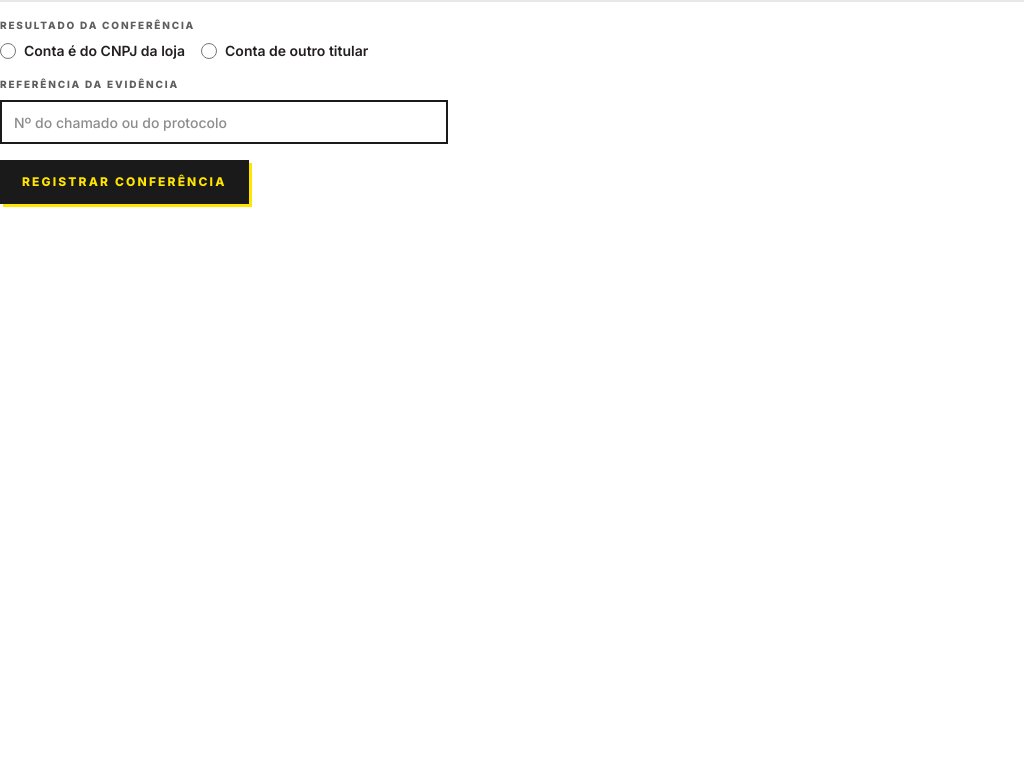
it: VendorMercadoPagoIdentityForm › confirma antes de enviar e registra com a evidência
Click the radio button labelled "Conta de outro titular". click: [209, 51]
box: [201,43,217,59]
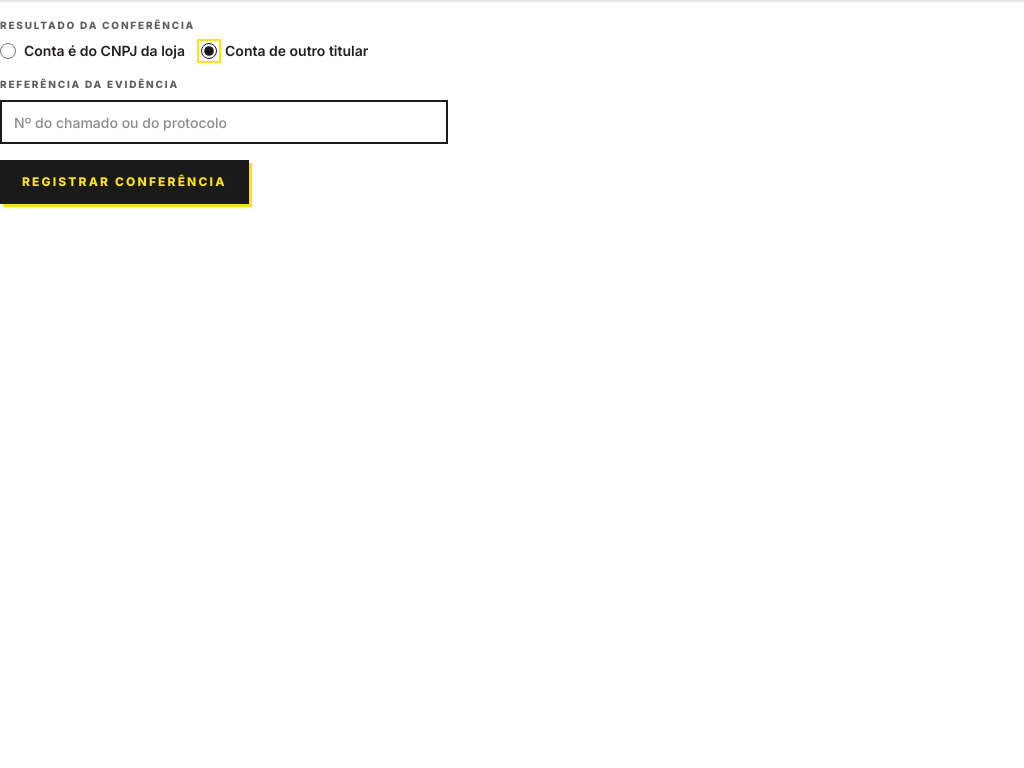
Type "  CH-1234 " into the field labelled "Referência da evidência". click: [224, 122]
box: [0,100,448,144]
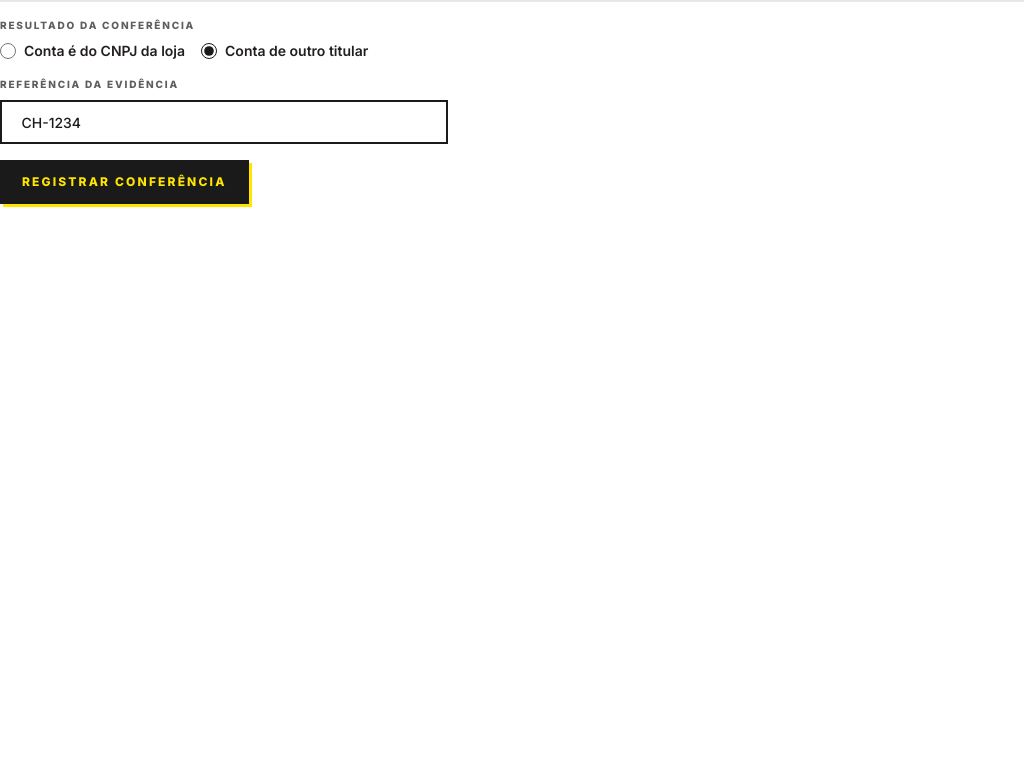
Click the button "Registrar conferência". click: [124, 182]
box: [0,160,248,204]
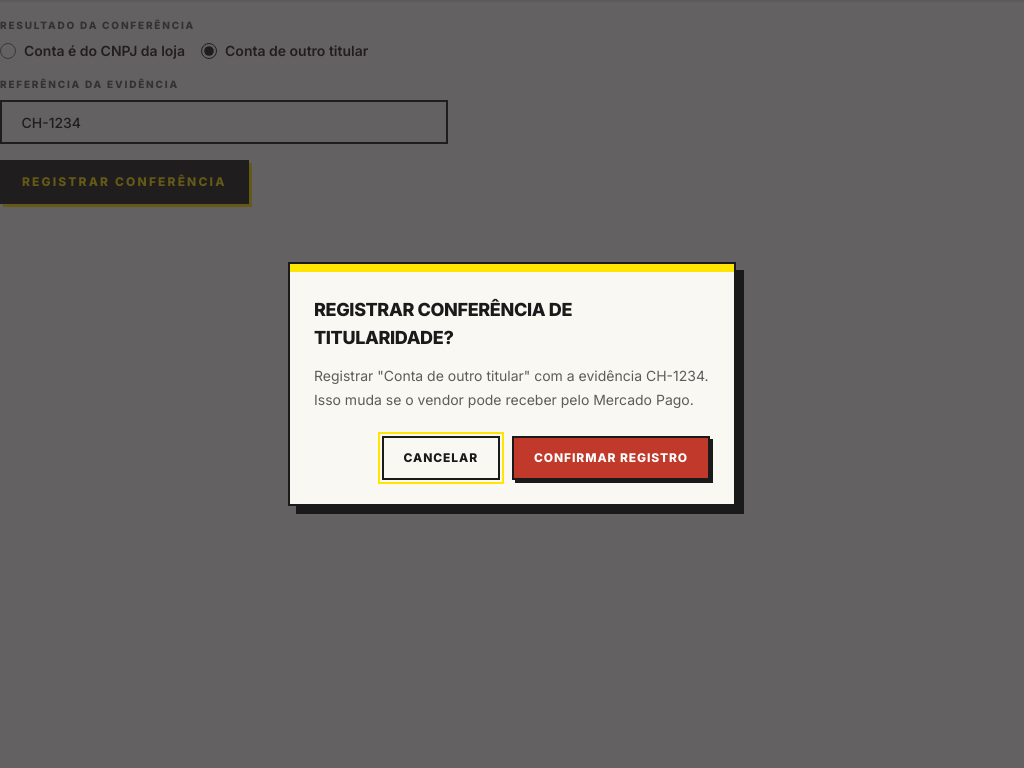
Check: the dialog shows "CH-1234", box [314,367,708,408]
Click the button "Confirmar registro". click: [611, 458]
box: [512,436,710,480]
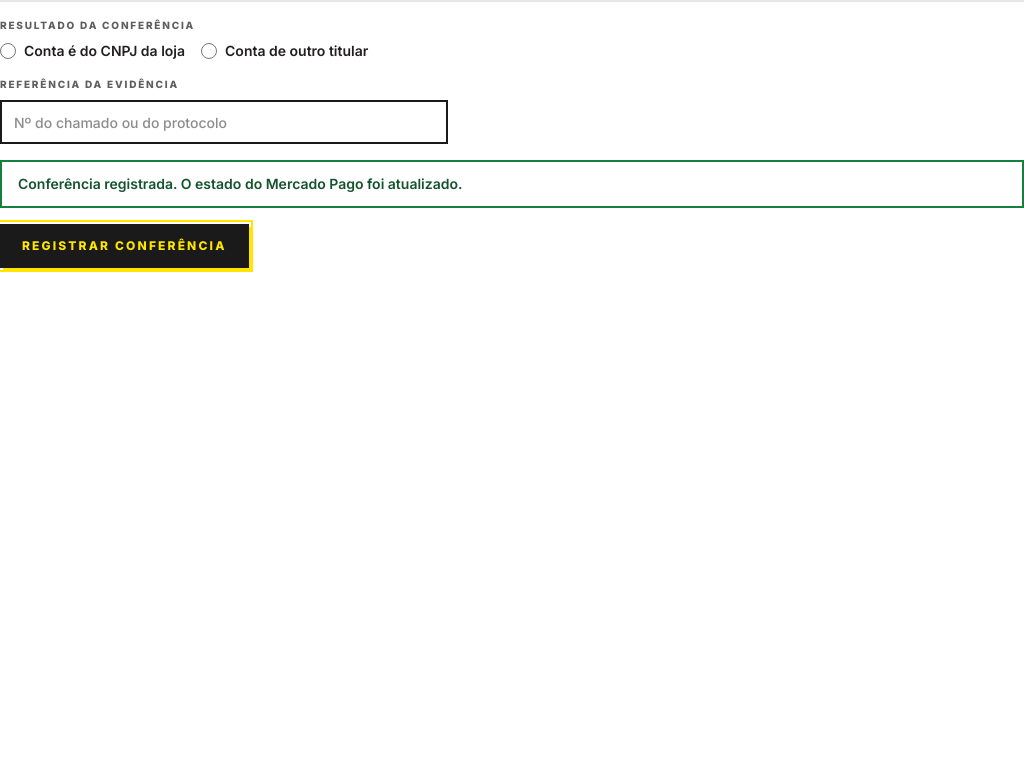
Check: the message shows "Conferência registrada", box [18,175,462,192]
